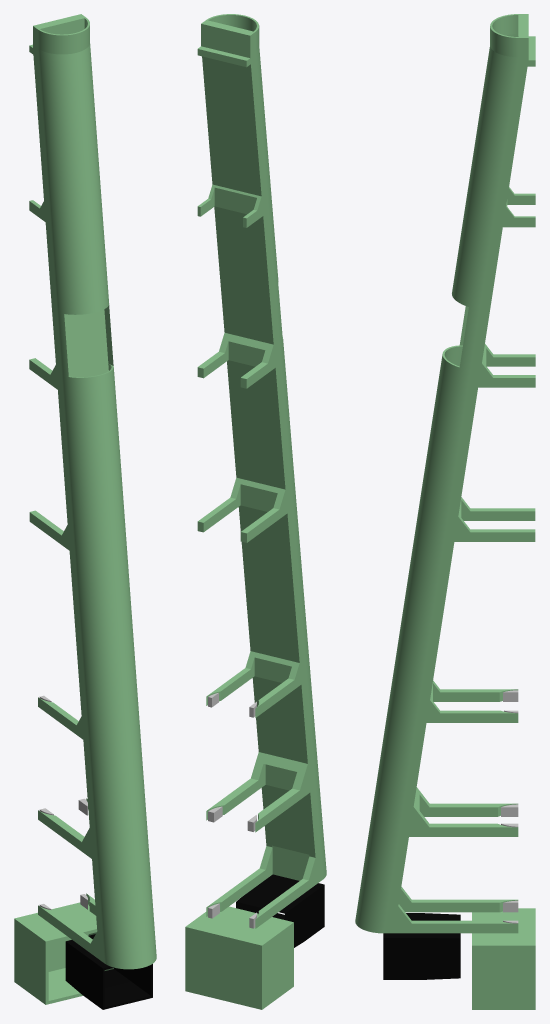
Rendered from rullo4.glb.
3 renders of one model, left to right at view 1: azimuth 30°, elevation 25°; view 2: azimuth 150°, elevation 25°; view 3: azimuth 270°, elevation 25°, orthographic.
Parts seen in each view (by area): view 1: Body7, Body1.002, Body1.001; view 2: Body7, Body1.002, Body1.001; view 3: Body7, Body1.002, Body1.001.
Boxes of the visible parts, x1=… form: Body7: x1=29, y1=14, x2=156, y2=969; Body1.002: x1=14, y1=902, x2=113, y2=1004; Body1.001: x1=65, y1=934, x2=152, y2=1009; Body7: x1=197, y1=14, x2=326, y2=928; Body1.002: x1=185, y1=906, x2=293, y2=1009; Body1.001: x1=236, y1=874, x2=324, y2=947; Body7: x1=355, y1=14, x2=535, y2=933; Body1.002: x1=472, y1=908, x2=535, y2=1009; Body1.001: x1=383, y1=913, x2=460, y2=979.
Size of the model in its own units: 0.025 by 0.301 by 0.051.
